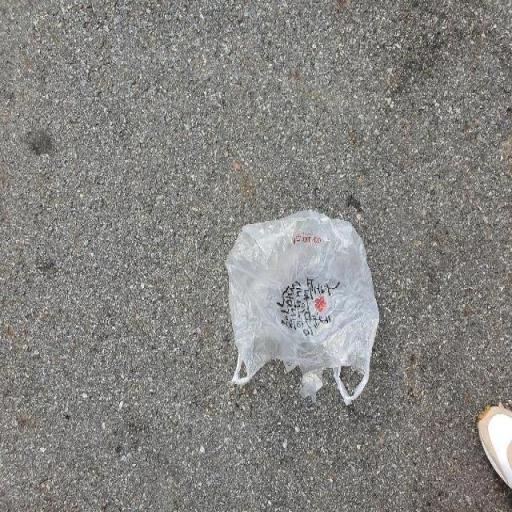plastic-bag: (224, 209, 382, 404)
